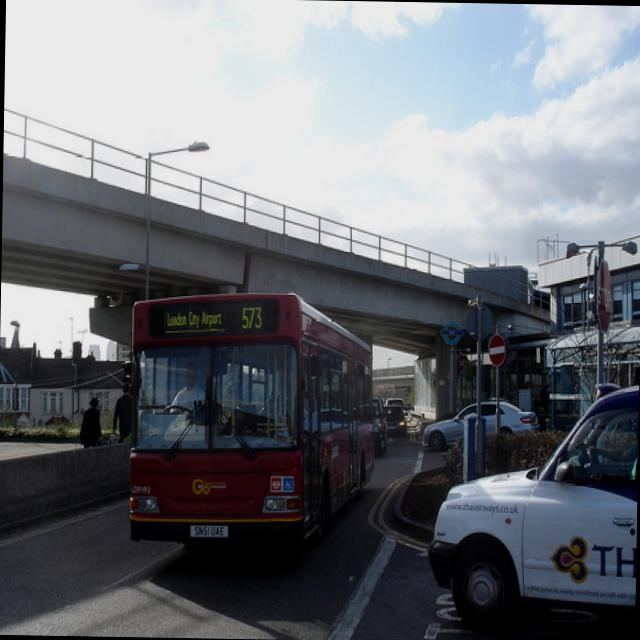Vehicle: (126, 290, 379, 558), (427, 374, 639, 634), (421, 398, 542, 459), (372, 396, 388, 455), (383, 406, 406, 438)
